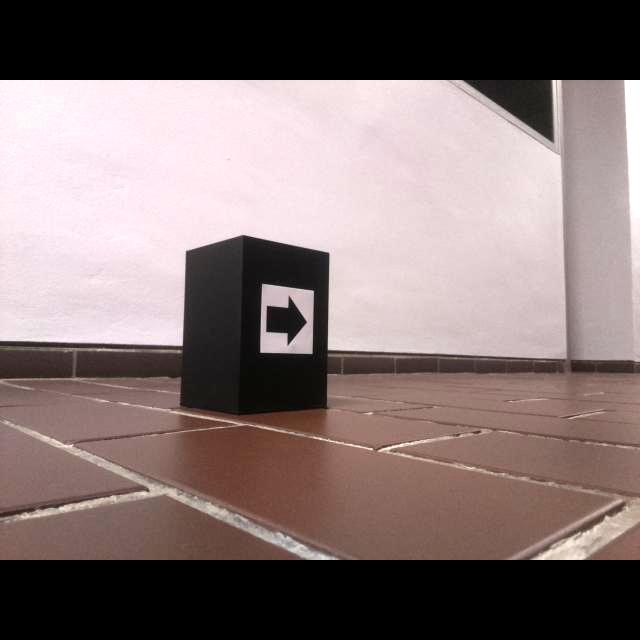RIGHT: (265, 295, 307, 345)
